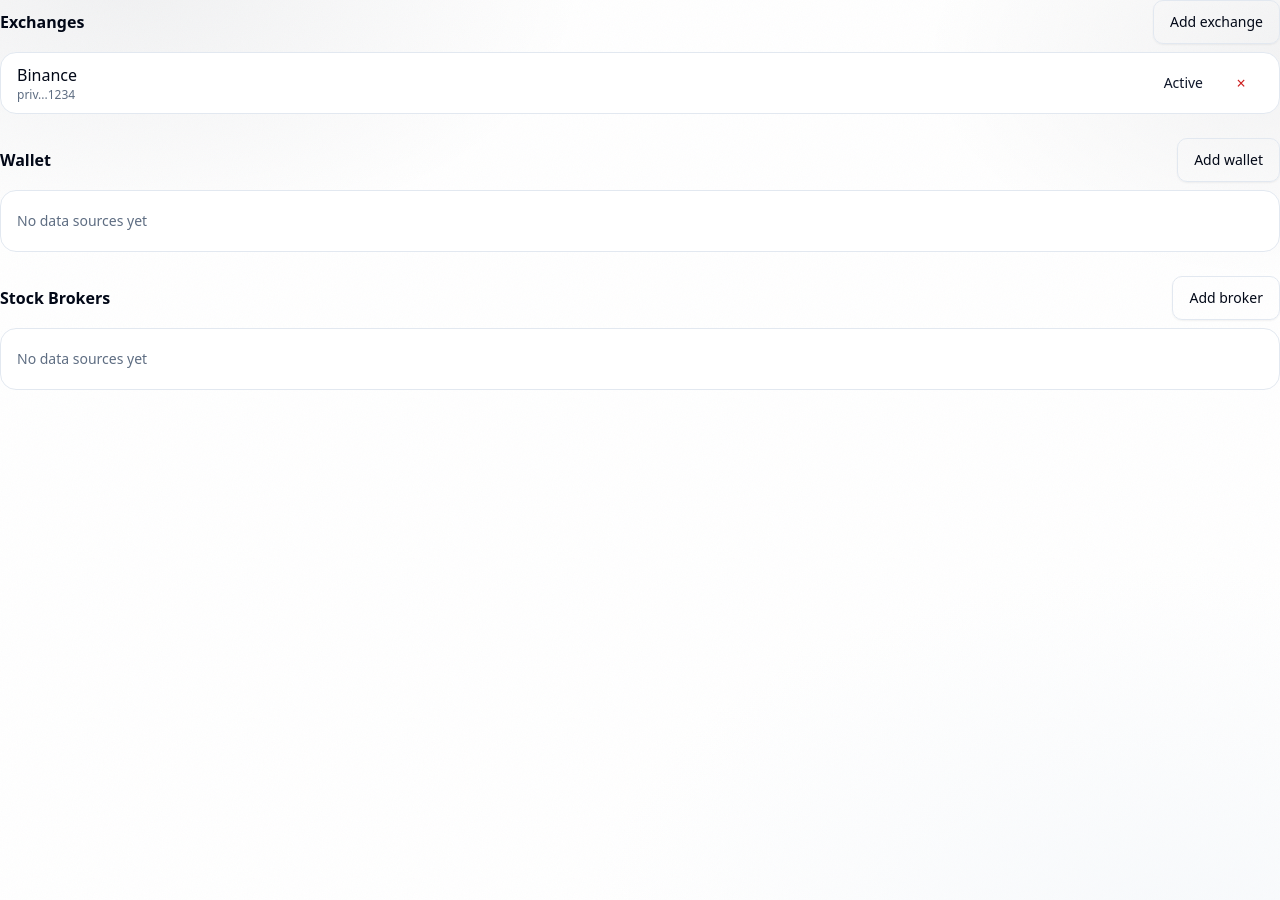
Test: mobile data sources › shows a useful source save error for Duplicate exchange
Click the button "Add exchange". click: [1217, 22]
box: [1153,0,1279,44]
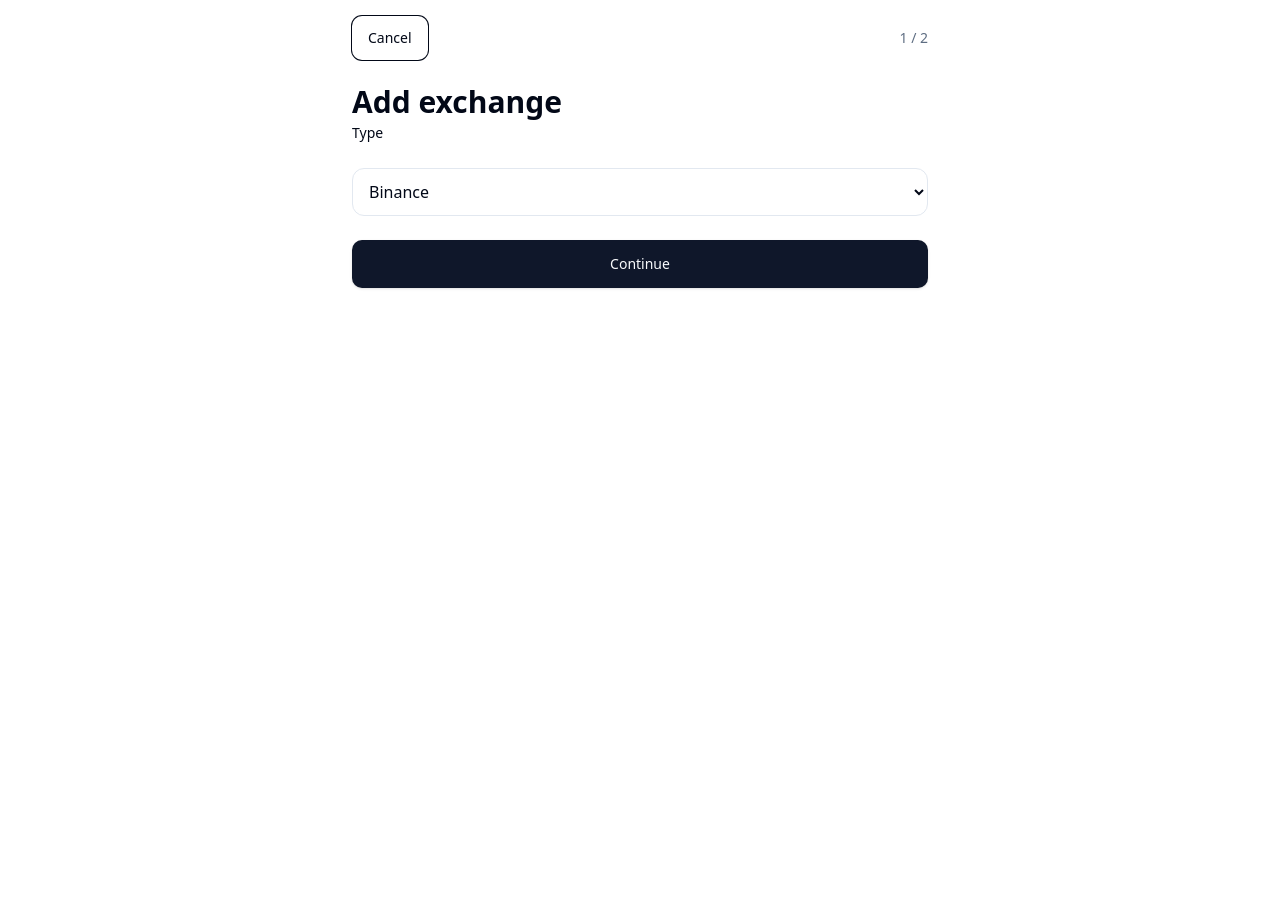
Click the button "Continue". click: [640, 264]
box: [352,240,928,288]
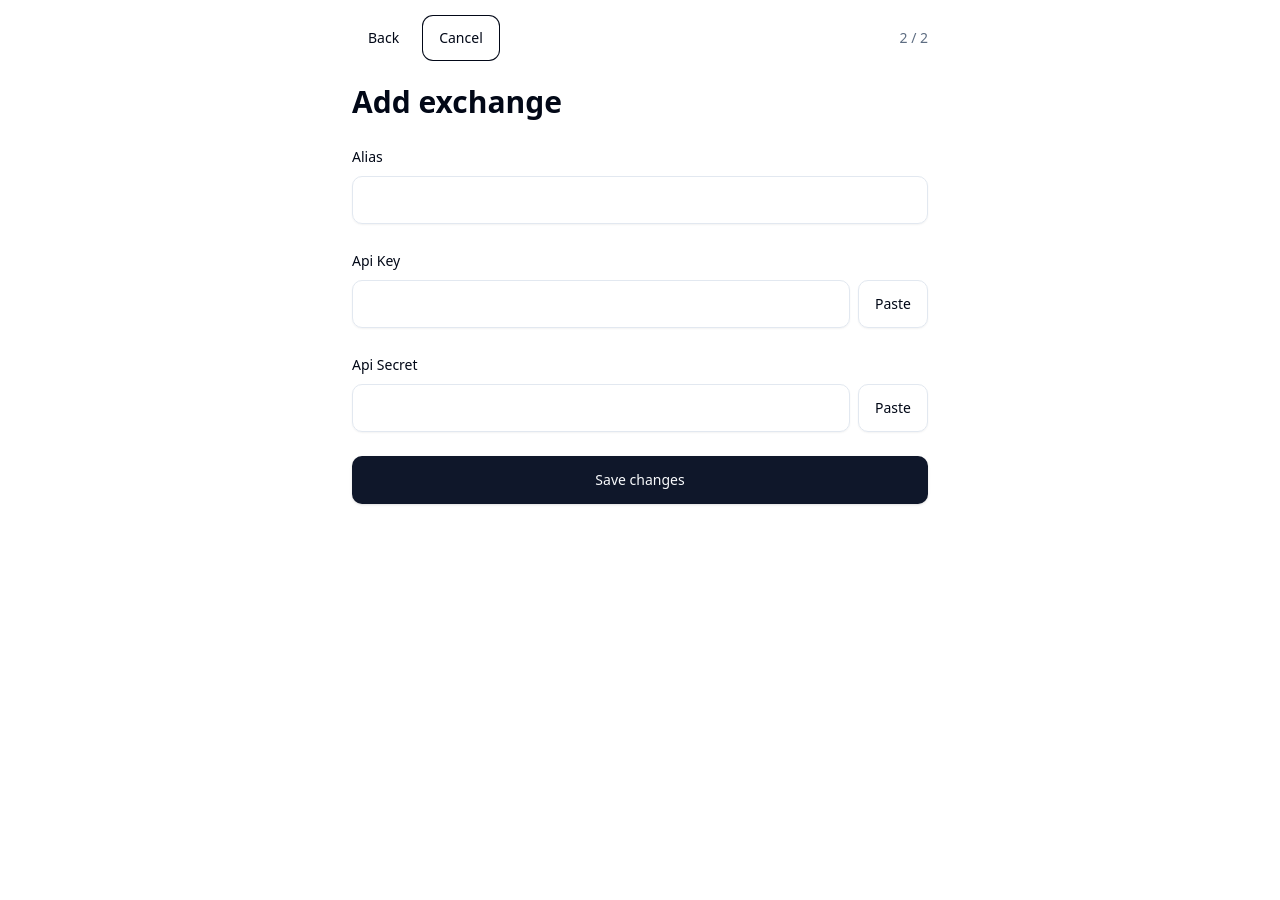
Type "key" into the field labelled "Api Key". click: [601, 304]
box: [352,280,850,328]
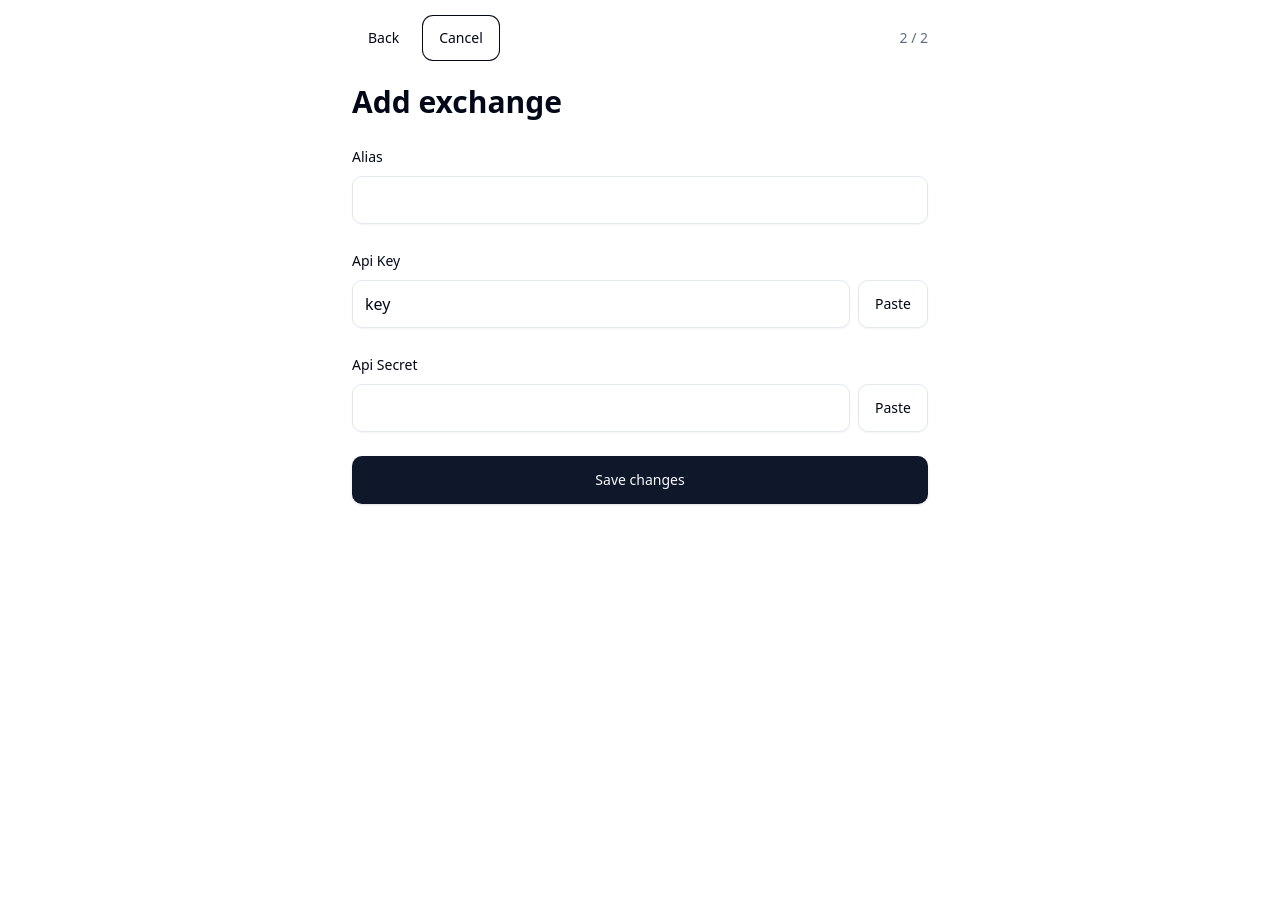
Type "secret" into the password field labelled "Api Secret". click: [601, 408]
box: [352,384,850,432]
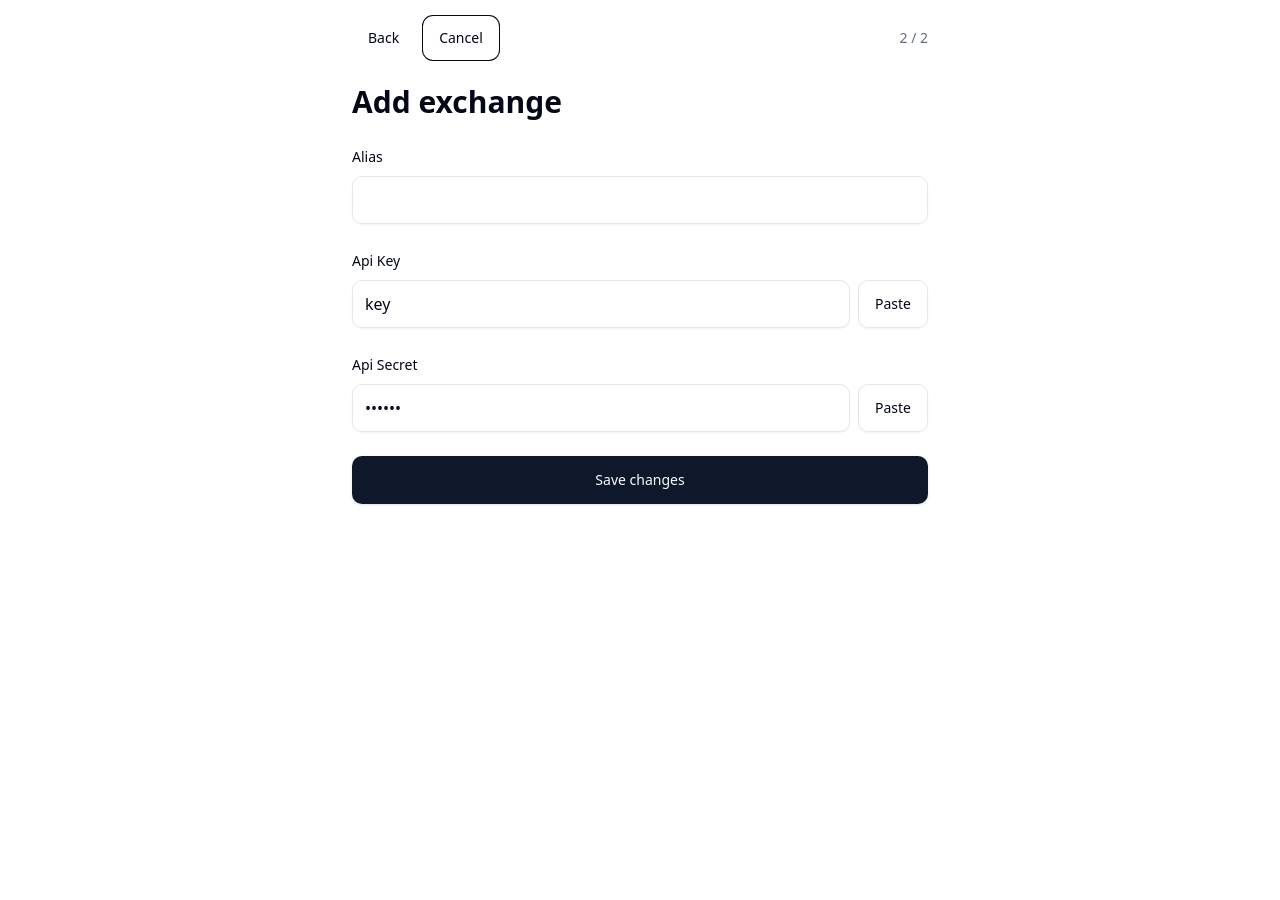
Click the button "Save changes". click: [640, 480]
box: [352,456,928,504]
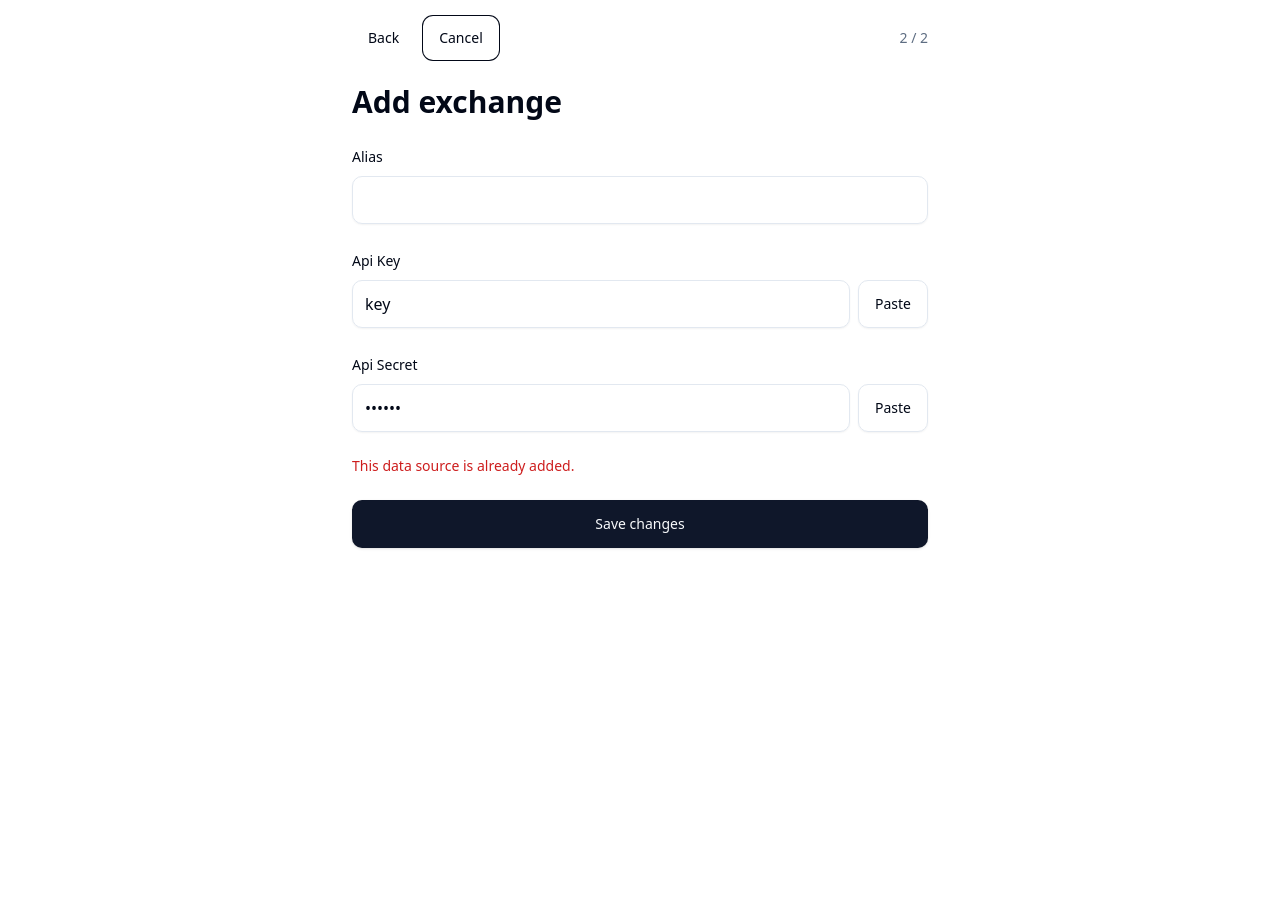
Now the message shows "already added", box [352,456,574,475]
